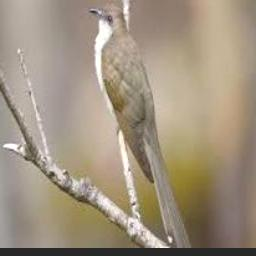Cuckoo: (87, 4, 190, 248)
